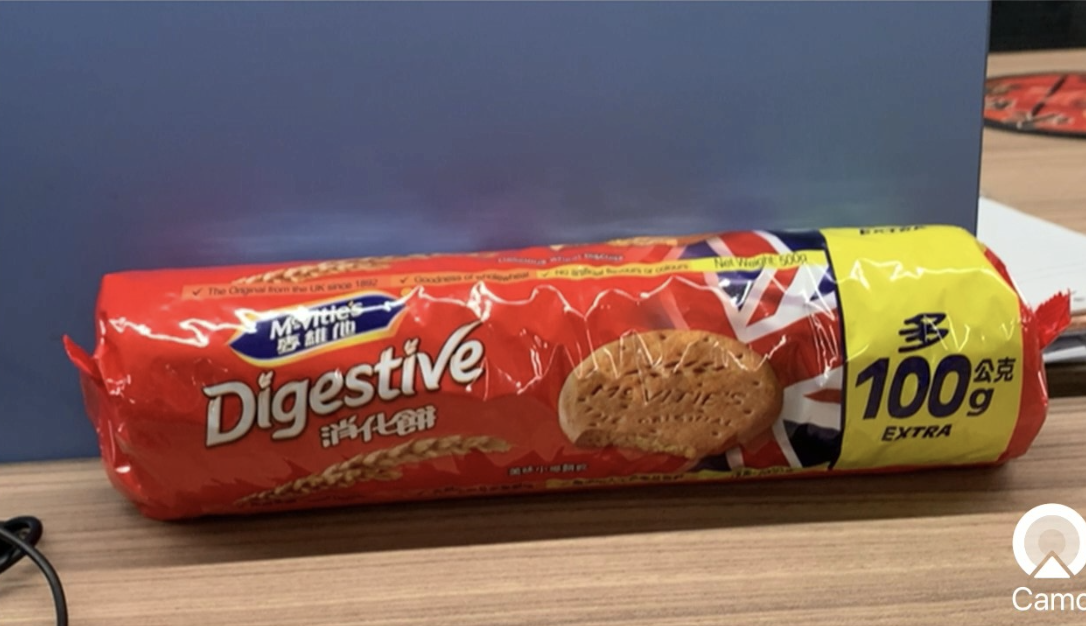cookies_500g-599g: (166, 282, 1016, 442)
